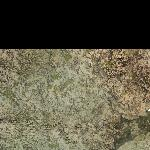dead: (3, 50, 146, 147)
